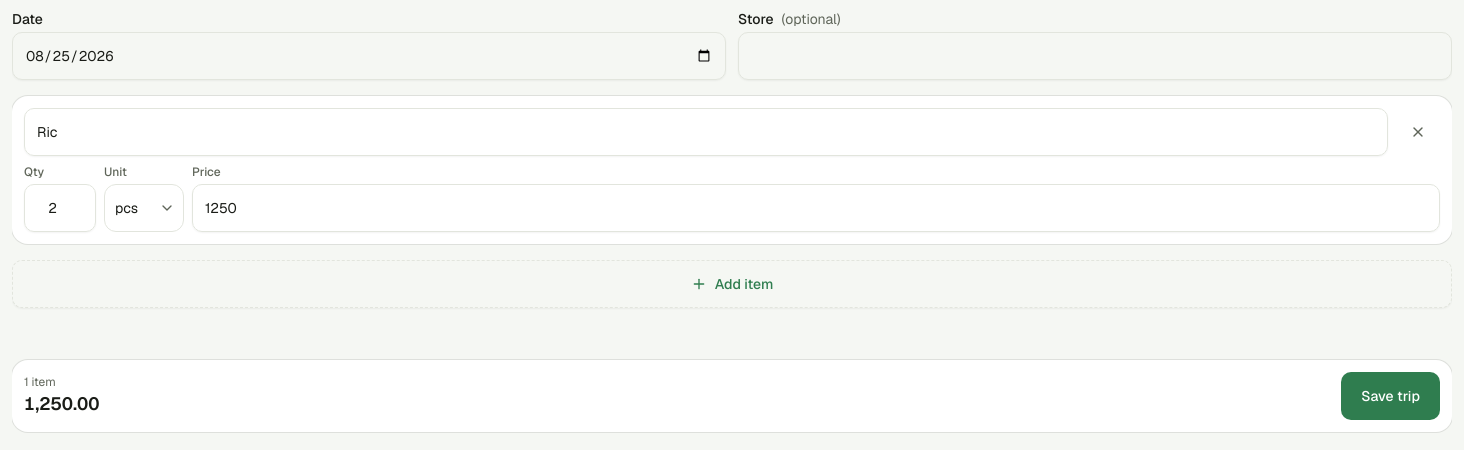
Scenario: TripForm opened on scanned rows › keeps a scanned unit when the item name is edited
Type "e" into the field named "Item 1" at (706,132), box left=24, top=108, right=1388, bottom=156
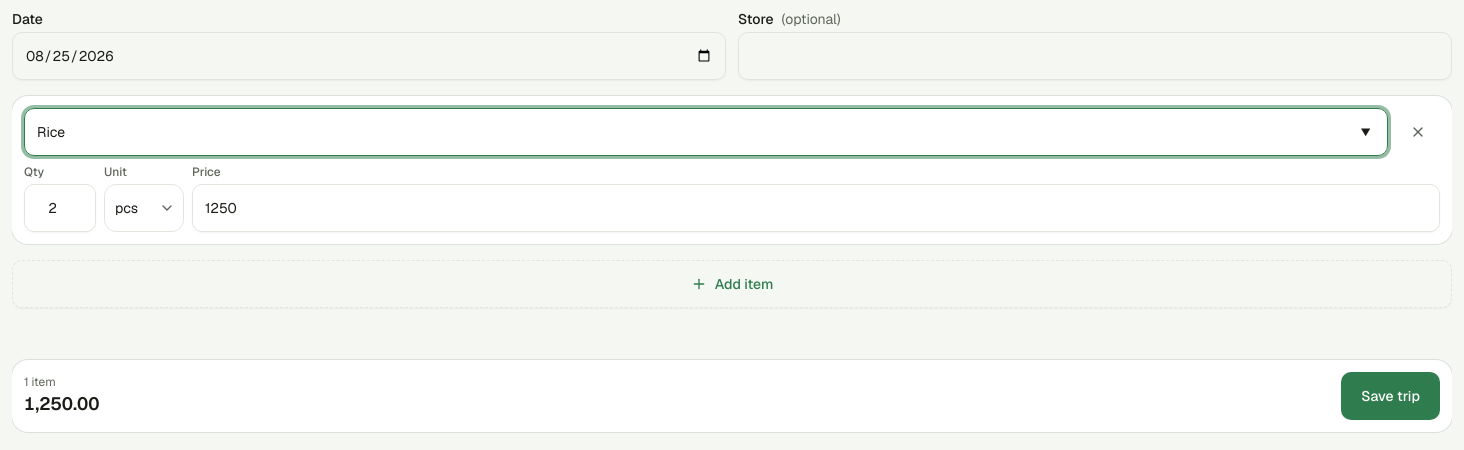
Now the field named "Item 1" holds "Rice", box left=24, top=108, right=1388, bottom=156
